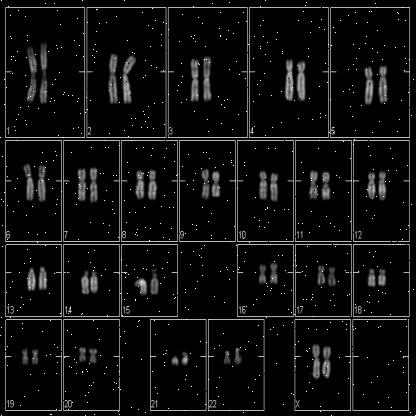1: (40, 42, 50, 106), (26, 46, 36, 102)
10: (258, 169, 268, 201), (270, 171, 280, 202)
11: (309, 168, 318, 201), (322, 170, 330, 202)
12: (368, 169, 376, 200), (378, 169, 386, 200)
13: (26, 265, 36, 292), (38, 265, 48, 292)
14: (80, 268, 88, 296), (90, 268, 98, 296)
15: (149, 266, 160, 297), (133, 276, 148, 297)
16: (270, 260, 278, 284), (258, 261, 266, 284)
17: (328, 264, 338, 286), (316, 263, 325, 286)
18: (378, 267, 387, 288), (368, 267, 376, 288)
19: (21, 344, 30, 366), (32, 346, 39, 368)
2: (122, 52, 136, 104), (109, 50, 117, 106)
20: (88, 347, 99, 363), (78, 346, 86, 362)
21: (180, 351, 188, 368), (170, 353, 180, 366)
22: (233, 346, 244, 366), (224, 348, 232, 366)
3: (202, 54, 213, 102), (189, 58, 198, 102)
4: (284, 56, 295, 103), (296, 58, 306, 102)
5: (363, 64, 374, 106), (378, 64, 388, 106)
6: (36, 162, 48, 203), (22, 161, 32, 202)
7: (88, 166, 99, 202), (76, 167, 87, 202)
8: (136, 167, 145, 200), (147, 168, 156, 200)
9: (200, 167, 210, 200), (211, 168, 221, 199)
X: (310, 342, 322, 380), (321, 342, 333, 380)
